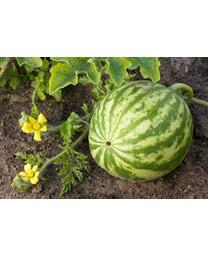watermelon: (88, 79, 193, 181)
